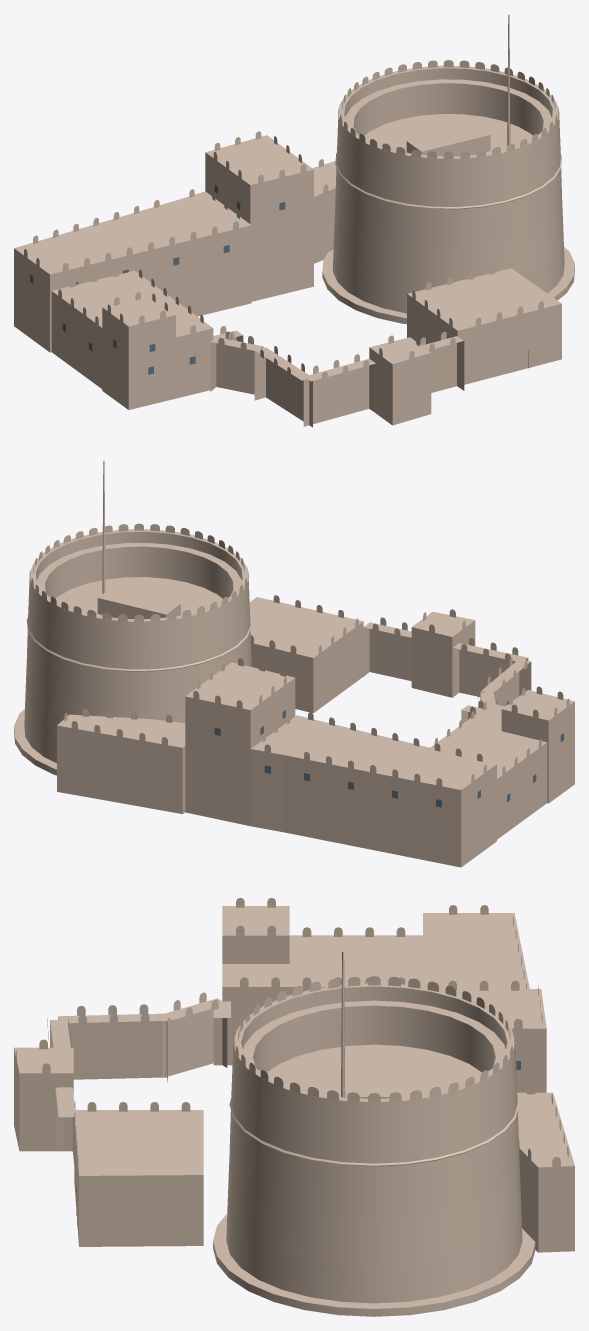
Rendered from nizwa-fort.glb.
3 views of the same model, one above another, from view 1: azimuth 30°, elevation 25°; view 2: azimuth 150°, elevation 25°; view 3: azimuth 270°, elevation 25° (orthographic). The views are drawn at different scales.
Parts seen in each view (by area): view 1: Nizwa Fort; view 2: Nizwa Fort; view 3: Nizwa Fort.
Boxes of the visible parts, x1,y1,x2,y2 form: Nizwa Fort: [14, 14, 574, 427]; Nizwa Fort: [14, 460, 574, 867]; Nizwa Fort: [14, 898, 574, 1316].
Size of the model in its own units: 91.96 by 46.1 by 71.6.
